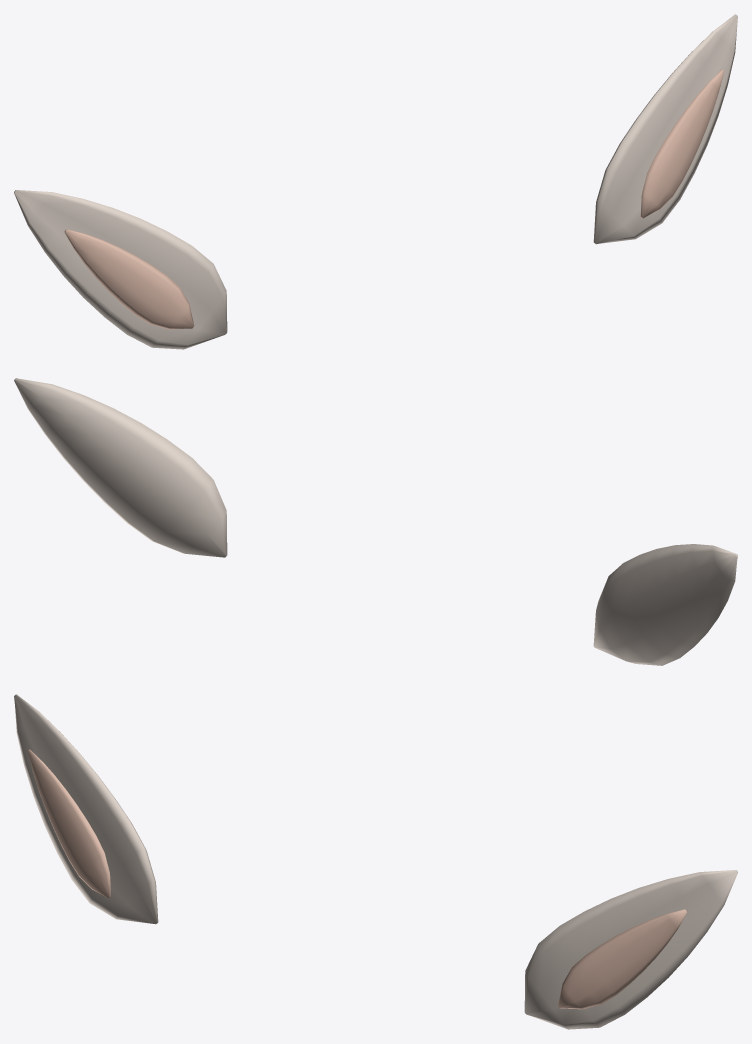
Rendered from race_ears_elf.glb.
The picture shows the model from 3 angles, top to bottom: view 1: azimuth 30°, elevation 25°; view 2: azimuth 150°, elevation 25°; view 3: azimuth 330°, elevation 25°; orthographic projection.
Visible parts, largest first — view 1: race_ears_elf; view 2: race_ears_elf; view 3: race_ears_elf.
Boxes of the visible parts, x1=… form: race_ears_elf: x1=14, y1=14, x2=737, y2=349; race_ears_elf: x1=14, y1=378, x2=737, y2=665; race_ears_elf: x1=14, y1=694, x2=737, y2=1029.
Bounding box in the file's own units: 1.81 × 0.3994 × 0.1857.
